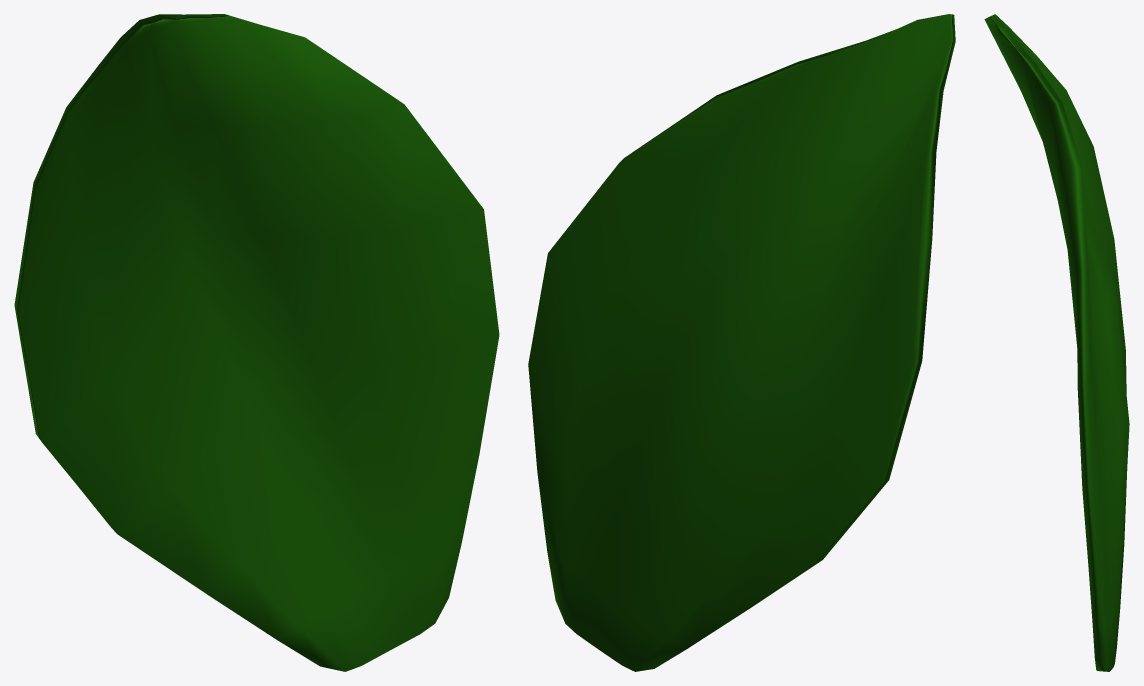
File: Hoja.fbx
3 renders of one model, left to right at view 1: azimuth 30°, elevation 25°; view 2: azimuth 150°, elevation 25°; view 3: azimuth 270°, elevation 25°, orthographic. The views are drawn at different scales.
Visible parts, largest first — view 1: Plane.004; view 2: Plane.004; view 3: Plane.004.
Part boxes in pixels (x1=…): Plane.004: x1=14, y1=14, x2=499, y2=671; Plane.004: x1=528, y1=14, x2=955, y2=671; Plane.004: x1=984, y1=14, x2=1129, y2=671.
Size of the model in its own units: 0.1582 by 0.2516 by 0.06.
